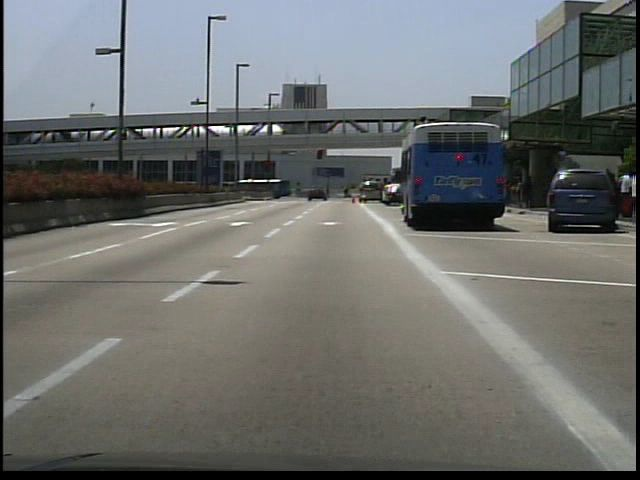person: (615, 169, 634, 218), (521, 173, 533, 209), (633, 163, 638, 222), (341, 185, 353, 199), (328, 185, 329, 200)
